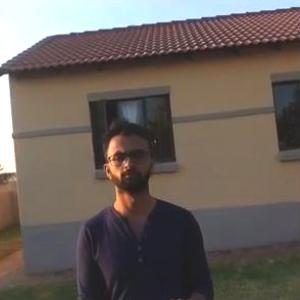follow: (73, 113, 220, 299)
